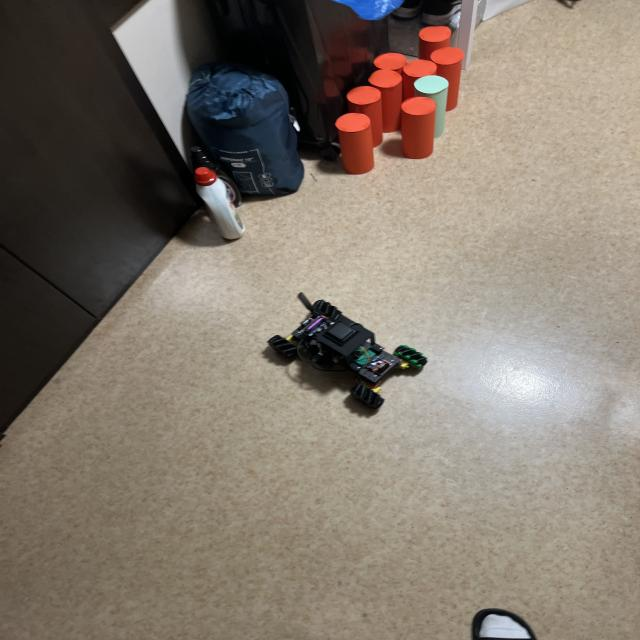robot: (268, 293, 427, 408)
